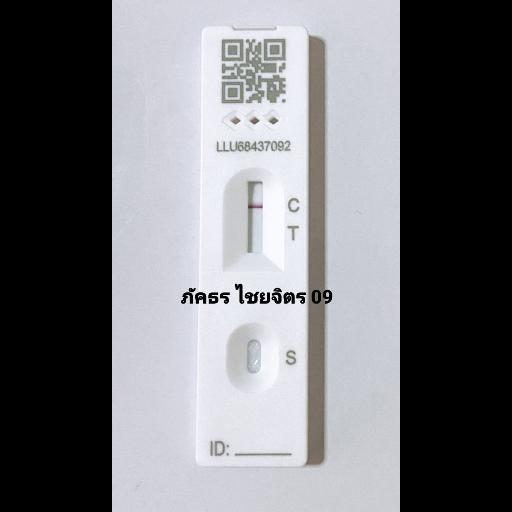Neg: (204, 26, 308, 466)
